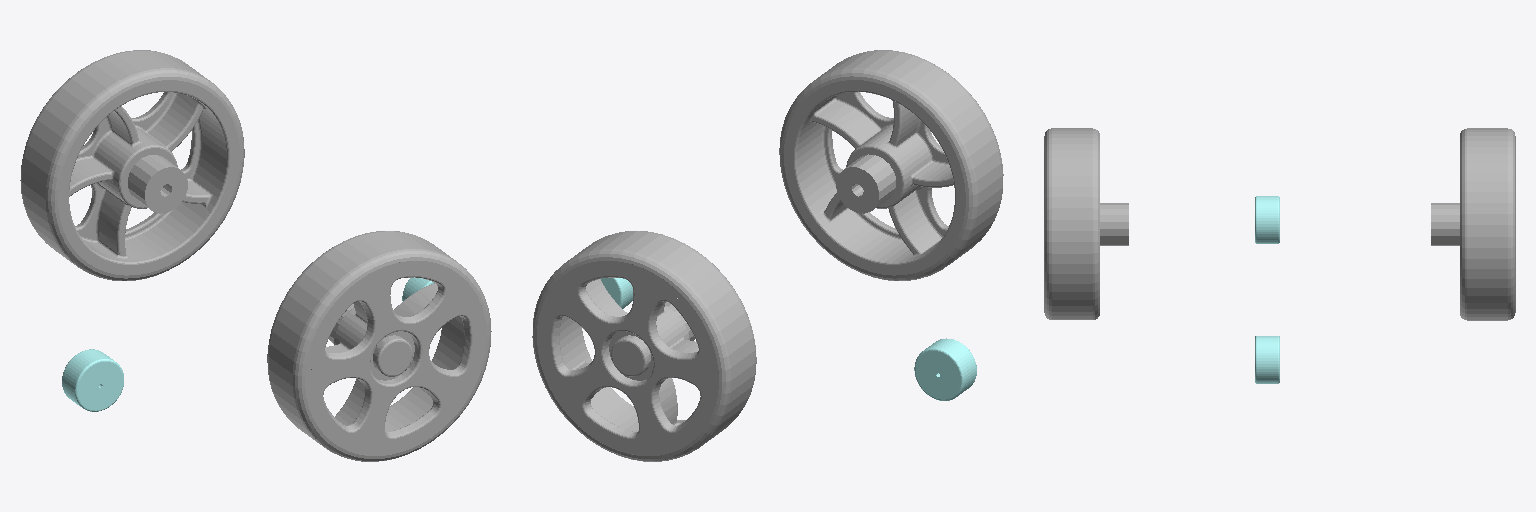
robot.urdf — w2a_body:
<?xml version="1.0" encoding="utf-8"?>

<robot name="w2a_body">

    <link name="base_footprint">
    </link>

    <link name="base_link">
        <inertial>
            <origin xyz="-0.00183994912012901 0.000718384784481402 0.040896257051146" rpy="0 0 0" />
            <mass value="2.11446326748896" />
            <inertia ixx="0.0172522550977486" ixy="0.000112962512291742" ixz="0.00215471233797688"
                iyy="0.0214703513066925" iyz="-3.60344762320202E-05" izz="0.0232865128652866" />
        </inertial>
        <visual>
            <origin xyz="0 0 0" rpy="0 0 0" />
            <geometry>
                <mesh filename="package://upros_description/meshes/W2C/base_link.STL" />
            </geometry>
            <material name="">
                <color rgba="0.898039215686275 0.917647058823529 0.929411764705882 1" />
            </material>
        </visual>
        <collision>
            <origin xyz="0 0 0" rpy="0 0 0" />
            <geometry>
                <mesh filename="package://upros_description/meshes/W2C/base_link.STL" />
            </geometry>
        </collision>
    </link>
    <joint name="base_footprint_joint" type="fixed">
        <parent link="base_footprint" />
        <child link="base_link" />
    </joint>

    <link name="wheel_L_link">
        <inertial>
            <origin xyz="-3.78770996320736E-07 -0.013414250594195 4.81266645289274E-07" rpy="0 0 0" />
            <mass value="0.337836569375269" />
            <inertia ixx="0.000278270805900081" ixy="1.29138084160578E-09"
                ixz="1.09699819030228E-09" iyy="0.000496405737651082" iyz="-1.64156177606385E-09"
                izz="0.000278271727426874" />
        </inertial>
        <visual>
            <origin xyz="0 0 0" rpy="0 0 0" />
            <geometry>
                <mesh filename="package://upros_description/meshes/W2C/wheel_L_link.STL" />
            </geometry>
            <material name="">
                <color rgba="0.752941176470588 0.752941176470588 0.752941176470588 1" />
            </material>
        </visual>
        <collision>
            <origin xyz="0 0 0" rpy="0 0 0" />
            <geometry>
                <mesh filename="package://upros_description/meshes/W2C/wheel_L_link.STL" />
            </geometry>
        </collision>
    </link>
    <joint name="wheel_L_joint" type="continuous">
        <origin xyz="0 0.1215 -0.02" rpy="0 0 0" />
        <parent link="base_link" />
        <child link="wheel_L_link" />
        <axis xyz="0 1 0" />
    </joint>

    <link name="wheel_R_link">
        <inertial>
            <origin xyz="-5.54575135339762E-07 0.013414250594195 2.59868179624395E-07" rpy="0 0 0" />
            <mass value="0.337836569375269" />
            <inertia ixx="0.000278271195902002" ixy="-1.89148049635397E-09"
                ixz="1.18772924132671E-09" iyy="0.000496405737651082" iyz="8.85827903470683E-10"
                izz="0.000278271337424954" />
        </inertial>
        <visual>
            <origin xyz="0 0 0" rpy="0 0 0" />
            <geometry>
                <mesh filename="package://upros_description/meshes/W2C/wheel_R_link.STL" />
            </geometry>
            <material name="">
                <color rgba="0.752941176470588 0.752941176470588 0.752941176470588 1" />
            </material>
        </visual>
        <collision>
            <origin xyz="0 0 0" rpy="0 0 0" />
            <geometry>
                <mesh filename="package://upros_description/meshes/W2C/wheel_R_link.STL" />
            </geometry>
        </collision>
    </link>
    <joint name="wheel_R_joint" type="continuous">
        <origin xyz="0 -0.1215 -0.02" rpy="0 0 0" />
        <parent link="base_link" />
        <child link="wheel_R_link" />
        <axis xyz="0 1 0" />
    </joint>

    <link name="front_Link">
        <inertial>
            <origin xyz="0 0 0" rpy="0 0 0" />
            <mass value="0.0063074121665526" />
            <inertia ixx="3.34755925557046E-07" ixy="-1.45392467961487E-22"
                ixz="2.42001994301979E-24" iyy="4.93530086138426E-07" iyz="6.44209161389679E-25"
                izz="3.34755925557046E-07" />
        </inertial>
        <visual>
            <origin xyz="0 0 0" rpy="0 0 0" />
            <geometry>
                <mesh filename="package://upros_description/meshes/W2C/wheel_B_Link.STL" />
            </geometry>
            <material name="">
                <color rgba="0.752941176470588 1 1 1" />
            </material>
        </visual>
        <collision>
            <origin xyz="0 0 0" rpy="0 0 0" />
            <geometry>
                <mesh filename="package://upros_description/meshes/W2C/wheel_B_Link.STL" />
            </geometry>
        </collision>
    </link>
    <joint name="front_joint" type="continuous">
        <origin xyz="0.0859999999999999 0 -0.0575" rpy="0 0 0" />
        <parent link="base_link" />
        <child link="front_Link" />
        <axis xyz="1 1 1" />
    </joint>

    <link name="back_Link">
        <inertial>
            <origin xyz="0 0 0" rpy="0 0 0" />
            <mass value="0.0063074121665526" />
            <inertia ixx="3.34755925557046E-07" ixy="-1.45392467961487E-22"
                ixz="2.42001994301979E-24" iyy="4.93530086138426E-07" iyz="6.4420916138968E-25"
                izz="3.34755925557046E-07" />
        </inertial>
        <visual>
            <origin xyz="0 0 0" rpy="0 0 0" />
            <geometry>
                <mesh filename="package://upros_description/meshes/W2C/wheel_A_Link.STL" />
            </geometry>
            <material name="">
                <color rgba="0.752941176470588 1 1 1" />
            </material>
        </visual>
        <collision>
            <origin xyz="0 0 0" rpy="0 0 0" />
            <geometry>
                <mesh filename="package://upros_description/meshes/W2C/wheel_A_Link.STL" />
            </geometry>
        </collision>
    </link>
    <joint name="back_joint" type="continuous">
        <origin xyz="-0.0859999999999998 0 -0.0575" rpy="0 0 0" />
        <parent link="base_link" />
        <child link="back_Link" />
        <axis xyz="1 1 1" />
    </joint>

    <gazebo>
        <plugin name="differential_drive_controller" filename="libgazebo_ros_diff_drive.so">
            <!-- 以下是该插件的各项参数设置 -->
            <!-- 插件的调试级别，设置为 Debug 可以输出更详细的调试信息 -->
            <rosDebugLevel>Debug</rosDebugLevel>
            <!-- 是否发布车轮的 TF 变换，这里设置为 false 表示不发布 -->
            <publishWheelTF>false</publishWheelTF>
            <!-- 机器人命名空间，这里设置为根命名空间，通常用于区分不同的机器人或组件 -->
            <robotNamespace>/</robotNamespace>
            <!-- 是否发布 TF 变换，1 表示发布，0 表示不发布 -->
            <publishTf>1</publishTf>
            <!-- 是否发布车轮关节的状态信息，设置为 true 表示发布 -->
            <publishWheelJointState>true</publishWheelJointState>
            <!-- 插件是否始终处于开启状态，true 表示一直开启 -->
            <alwaysOn>true</alwaysOn>
            <!-- 插件的更新频率，单位是 Hz，这里设置为 100.0Hz -->
            <updateRate>100.0</updateRate>
            <!-- 是否使用传统模式，true 表示使用传统模式 -->
            <legacyMode>true</legacyMode>
            <!-- 左车轮关节的名称，需要与机器人模型中定义的左车轮关节名称一致 -->
            <leftJoint>wheel_L_joint</leftJoint>
            <!-- 右车轮关节的名称，需要与机器人模型中定义的右车轮关节名称一致 -->
            <rightJoint>wheel_R_joint</rightJoint>
            <!-- 左右车轮之间的间距，单位是米，这里设置为 0.21 米 -->
            <wheelSeparation>0.21</wheelSeparation>
            <!-- 车轮的直径，单位是米，这里设置为 0.10 米 -->
            <wheelDiameter>0.10</wheelDiameter>
            <!-- 是否广播 TF 变换，1 表示广播，0 表示不广播 -->
            <broadcastTF>1</broadcastTF>
            <!-- 车轮的最大扭矩，单位是 Nm，这里设置为 100 Nm -->
            <wheelTorque>100</wheelTorque>
            <!-- 车轮的最大加速度，单位是 rad/s²，这里设置为 1.8 rad/s² -->
            <wheelAcceleration>1.8</wheelAcceleration>
            <!-- 控制指令的话题，机器人通常通过向该话题发送速度命令来控制移动 -->
            <commandTopic>cmd_vel</commandTopic>
            <!-- 里程计的坐标系名称，通常为 odom -->
            <odometryFrame>odom</odometryFrame>
            <!-- 里程计信息的话题名称，用于发布机器人的里程计信息 -->
            <odometryTopic>odom</odometryTopic>
            <!-- 机器人底盘的坐标系名称，通常为 base_footprint -->
            <robotBaseFrame>base_footprint</robotBaseFrame>
        </plugin>
    </gazebo>

</robot>

--- What the picture shows (computed from the rendered views, not written in the file) ---
3 views of the same robot in one strip: view 1: azimuth 30°, elevation 25°; view 2: azimuth 150°, elevation 25°; view 3: azimuth 270°, elevation 25° (orthographic).
Model w2a_body with 6 links and 5 joints (4 continuous, 1 fixed), rooted at base_footprint, posed all joints at 0.
Links seen in each view (by area): view 1: wheel_R_link, wheel_L_link, back_Link; view 2: wheel_L_link, wheel_R_link, back_Link, front_Link; view 3: wheel_L_link, wheel_R_link, front_Link, back_Link.
Boxes of the visible links, <box> form: wheel_R_link: <box>267,231,491,461</box>; wheel_L_link: <box>20,50,244,280</box>; back_Link: <box>62,349,123,411</box>; wheel_L_link: <box>532,231,756,461</box>; wheel_R_link: <box>779,50,1003,280</box>; back_Link: <box>914,338,976,400</box>; front_Link: <box>601,278,632,308</box>; wheel_L_link: <box>1431,128,1515,320</box>; wheel_R_link: <box>1044,128,1128,319</box>; front_Link: <box>1255,336,1279,383</box>; back_Link: <box>1255,196,1279,243</box>.
Bounding box of the posed robot: 0.197 × 0.245 × 0.1 m (x, y, z).
4 mesh visuals loaded from 5 distinct referenced files (4 binary STL); not drawn: 1 (reference not matched to a file when rendering).
